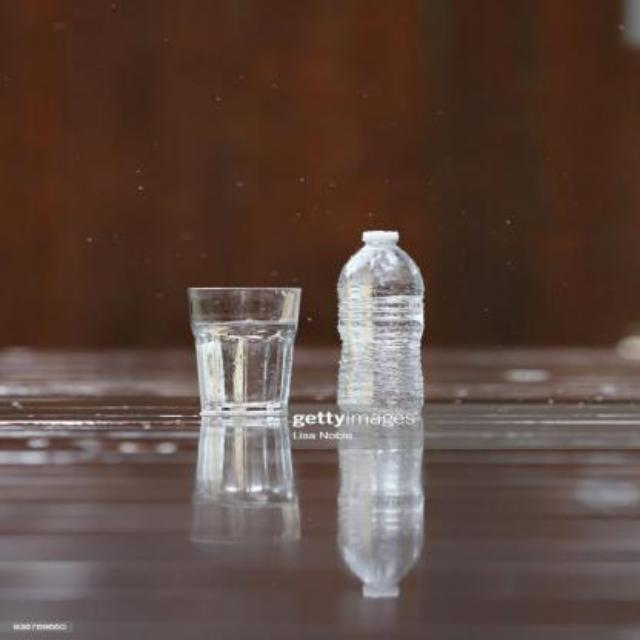bottle: (323, 219, 435, 425)
